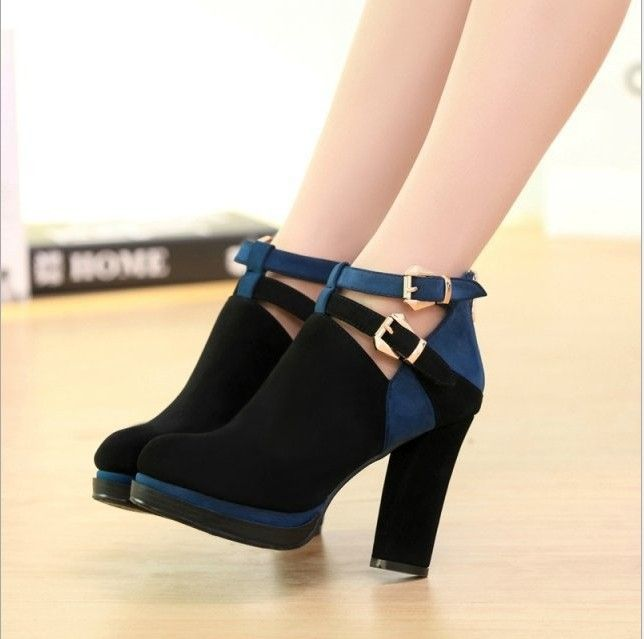gamuza: (95, 242, 486, 580)
